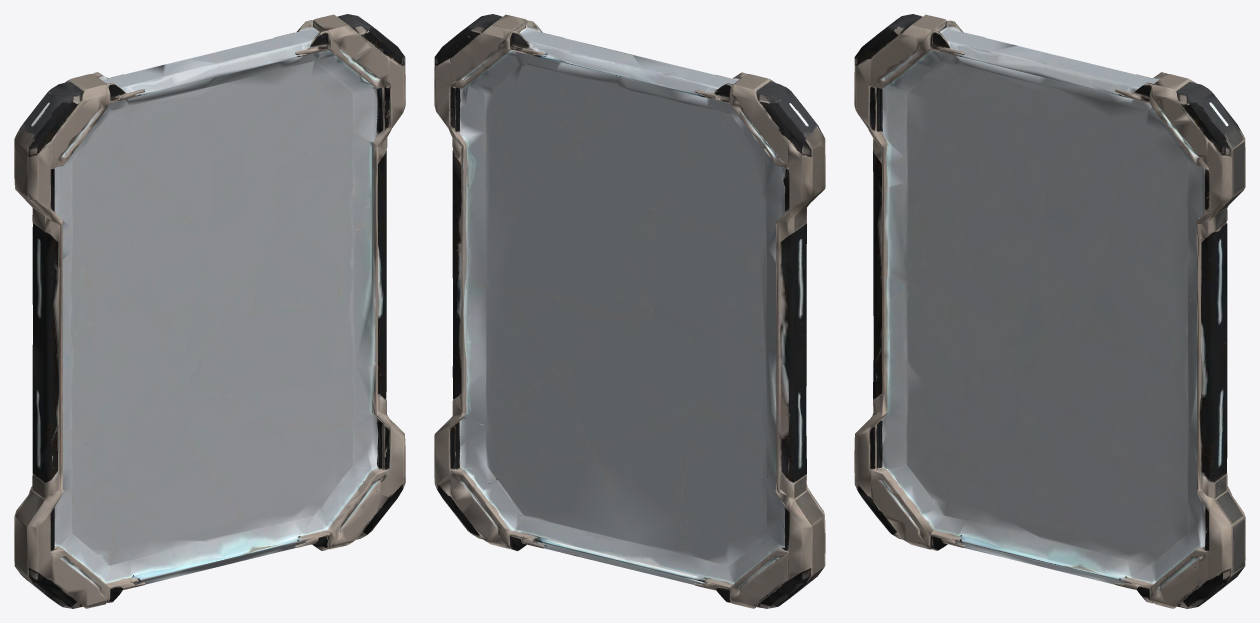
Rendered from token_crystal.glb.
3 renders of one model, left to right at view 1: azimuth 30°, elevation 25°; view 2: azimuth 150°, elevation 25°; view 3: azimuth 330°, elevation 25°, orthographic.
Bounding box in the file's own units: 1.45 × 1.9 × 0.1483.
1 material, 1 textured.
